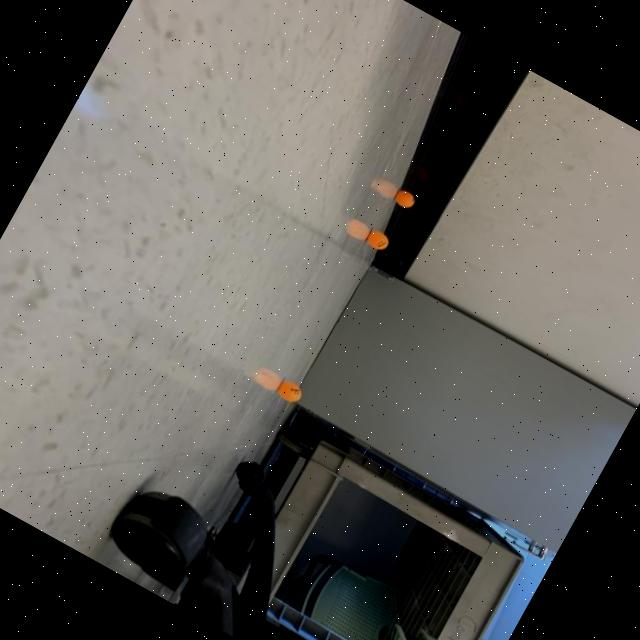ping-pong-ball: (273, 376, 305, 406), (362, 226, 393, 254), (390, 186, 420, 213)
